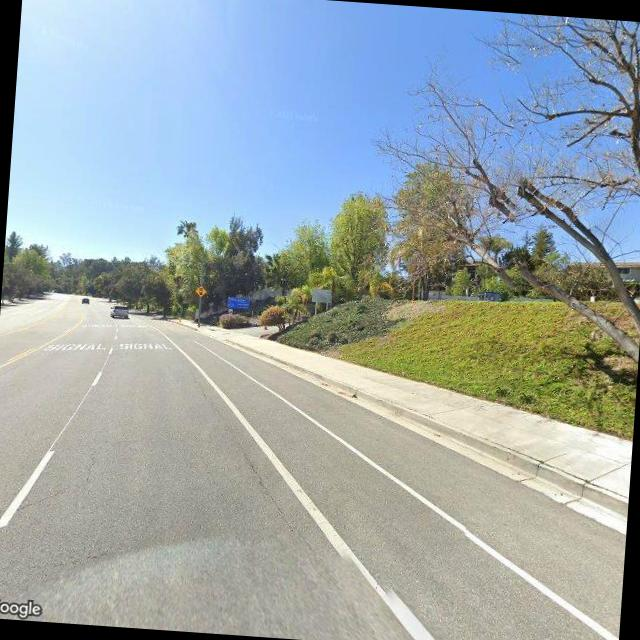pothole: (230, 448, 312, 542), (78, 444, 98, 491)
